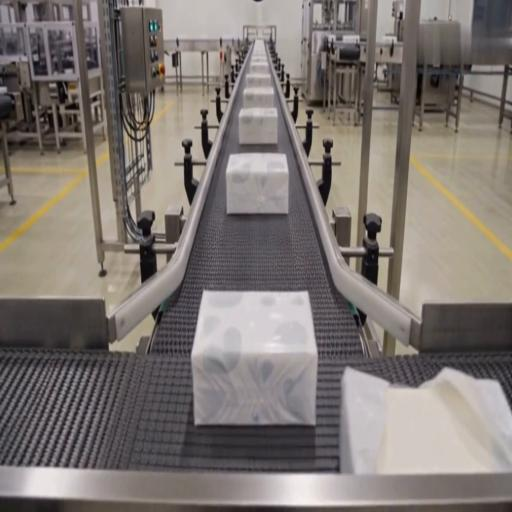defective: (340, 364, 511, 477)
good: (192, 288, 316, 426), (226, 152, 289, 216), (236, 106, 278, 146), (242, 87, 274, 110), (245, 70, 272, 88), (249, 39, 270, 60), (247, 58, 271, 74)
